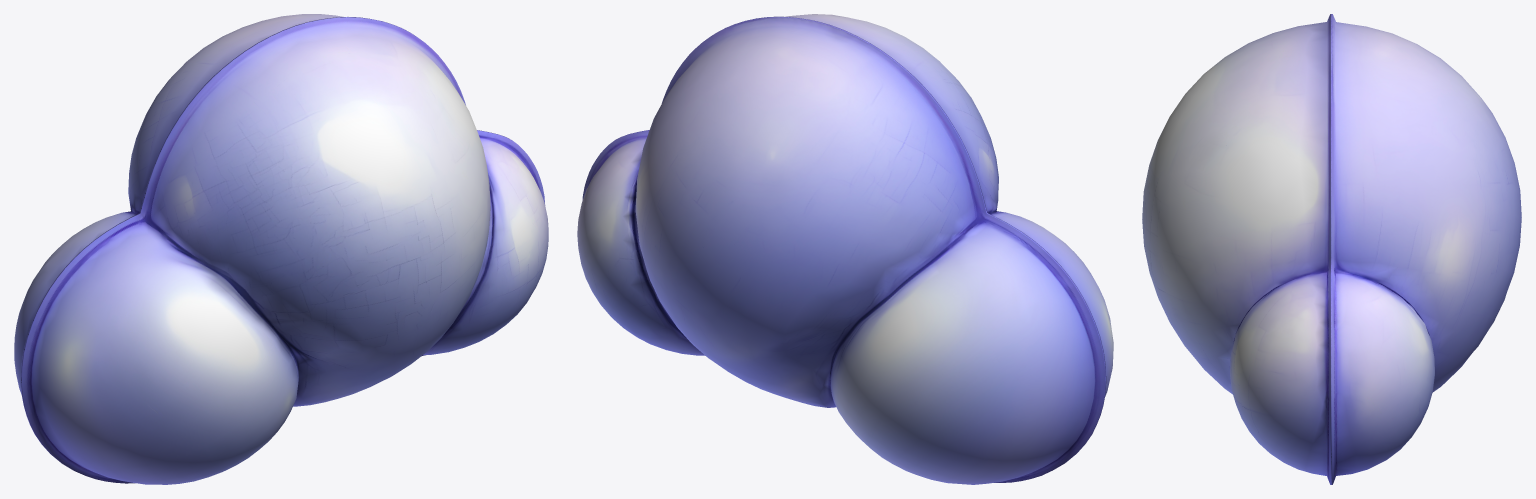
File: cloud-three-blobs.glb
3 renders of one model, left to right at view 1: azimuth 30°, elevation 25°; view 2: azimuth 150°, elevation 25°; view 3: azimuth 270°, elevation 25°, orthographic. The views are drawn at different scales.
Visible parts, largest first — view 1: dfe422e4_5082_4346_a2e0_44347705f55c; view 2: dfe422e4_5082_4346_a2e0_44347705f55c; view 3: dfe422e4_5082_4346_a2e0_44347705f55c.
Boxes of the visible parts, x1,y1,x2,y2 form: dfe422e4_5082_4346_a2e0_44347705f55c: [14, 14, 548, 484]; dfe422e4_5082_4346_a2e0_44347705f55c: [577, 14, 1113, 484]; dfe422e4_5082_4346_a2e0_44347705f55c: [1142, 14, 1521, 484].
Bounding box in the file's own units: 0.9995 × 0.7681 × 0.6021.
Materials: 1 (1 with a texture image).
